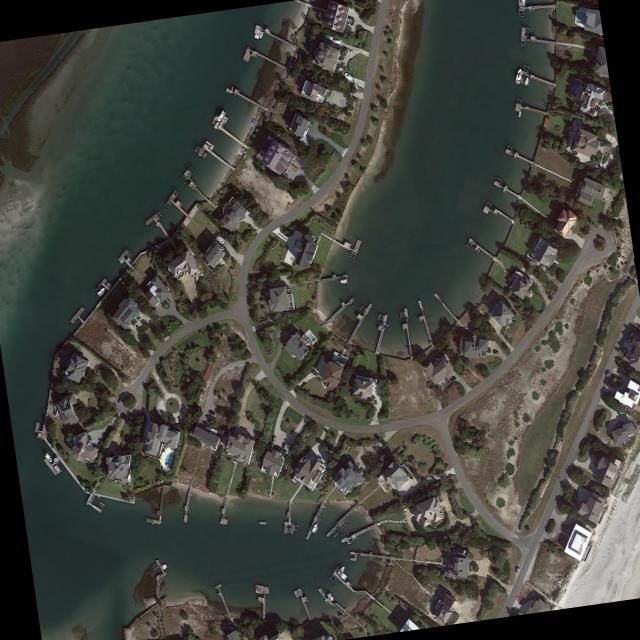ship: (163, 452, 174, 469), (515, 68, 523, 85), (344, 72, 355, 84), (217, 109, 227, 122), (44, 452, 54, 463), (97, 287, 106, 296), (311, 523, 319, 533), (218, 235, 226, 244), (54, 465, 61, 474), (525, 77, 530, 87), (214, 121, 220, 129), (340, 279, 349, 284), (259, 31, 264, 39), (522, 0, 526, 6)
small-vehicle: (208, 409, 216, 415), (118, 398, 123, 405), (606, 370, 611, 377), (282, 442, 287, 449), (282, 450, 287, 456), (516, 567, 520, 574), (273, 437, 277, 444), (271, 444, 275, 450), (595, 468, 599, 473), (493, 351, 499, 354)
